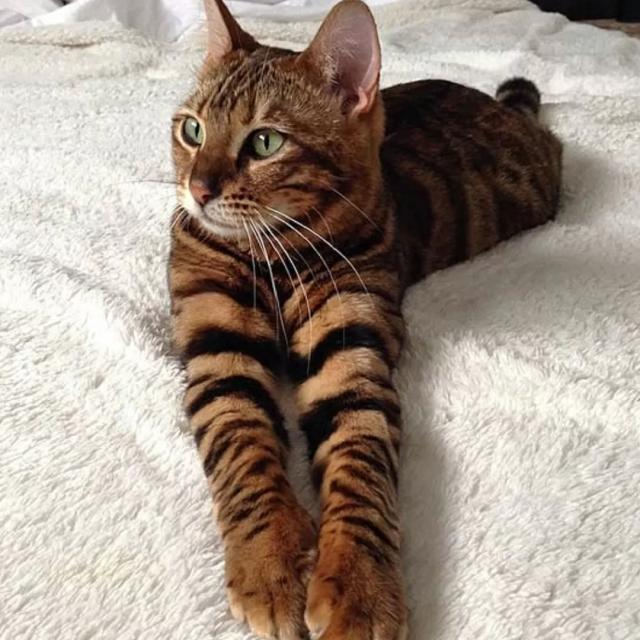Toyger: (162, 0, 568, 640)
